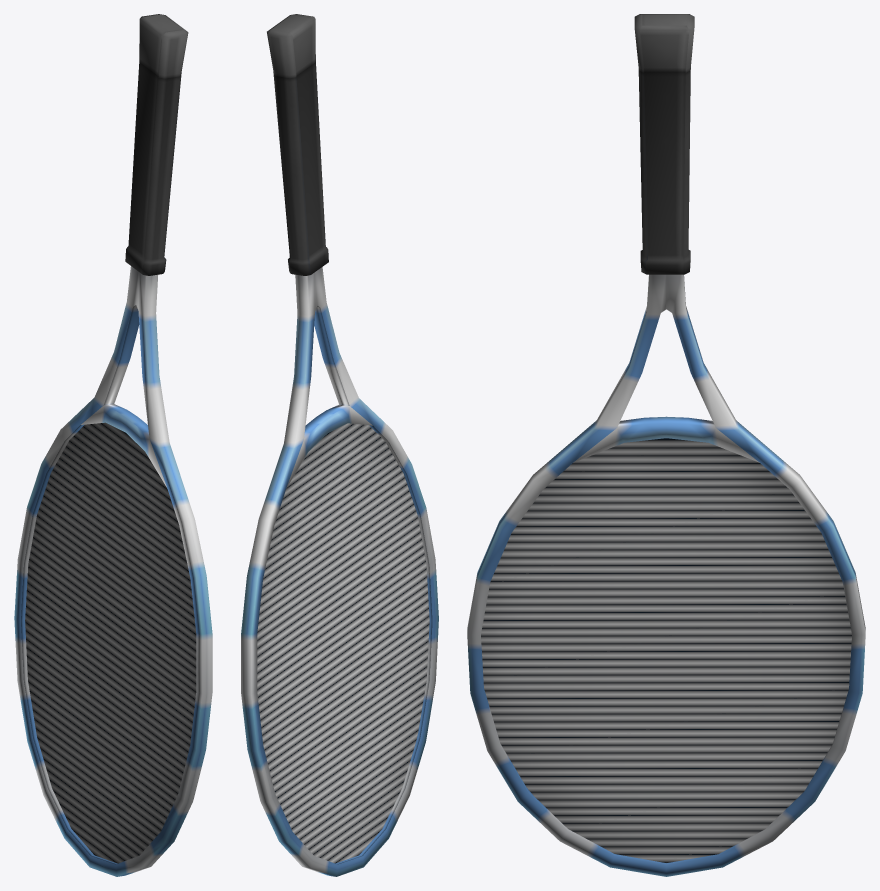
File: TouKuiZheJia_01_qiupai_01.FBX
3 renders of one model, left to right at view 1: azimuth 30°, elevation 25°; view 2: azimuth 150°, elevation 25°; view 3: azimuth 270°, elevation 25°, orthographic. The views are drawn at different scales.
Visible parts, largest first — view 1: TouKuiZheJia_qiupai_01; view 2: TouKuiZheJia_qiupai_01; view 3: TouKuiZheJia_qiupai_01.
Part boxes in pixels (x1,y1,x2,y2): TouKuiZheJia_qiupai_01: (14,14,212,876); TouKuiZheJia_qiupai_01: (241,14,438,876); TouKuiZheJia_qiupai_01: (467,14,865,876).
Size of the model in its own units: 61.5 by 562 by 228.
